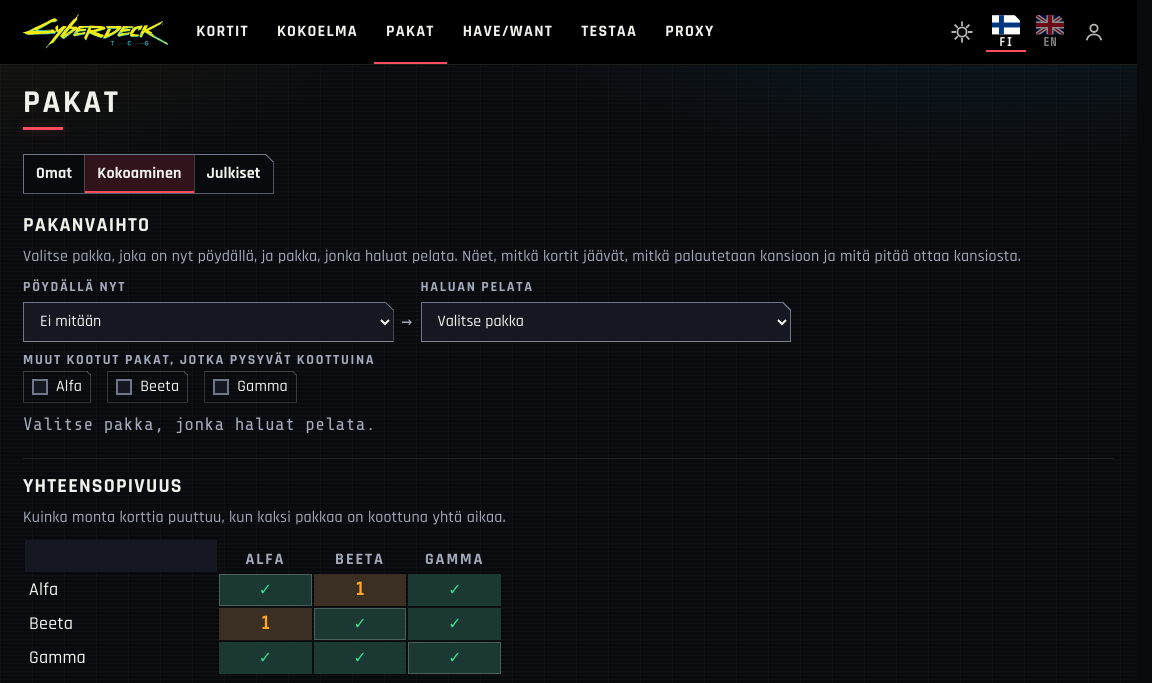
it: Kokoaminen tab (T-164) › reports missing cards, names the kept deck and adds them to wants
Select "Beeta" in the dropdown labelled "Haluan pelata" at coordinates (606, 322), box x1=420 y1=302 x2=791 y2=342
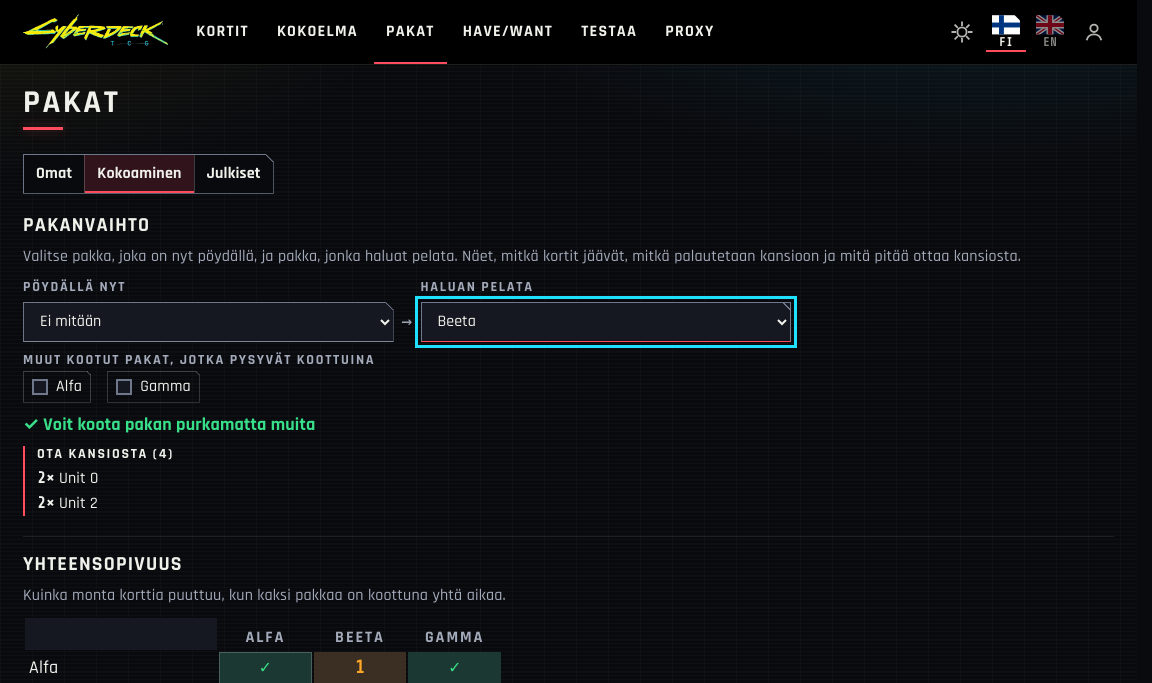
Click the checkbox labelled "Alfa".
click(40, 387)  # box x1=32 y1=379 x2=48 y2=395
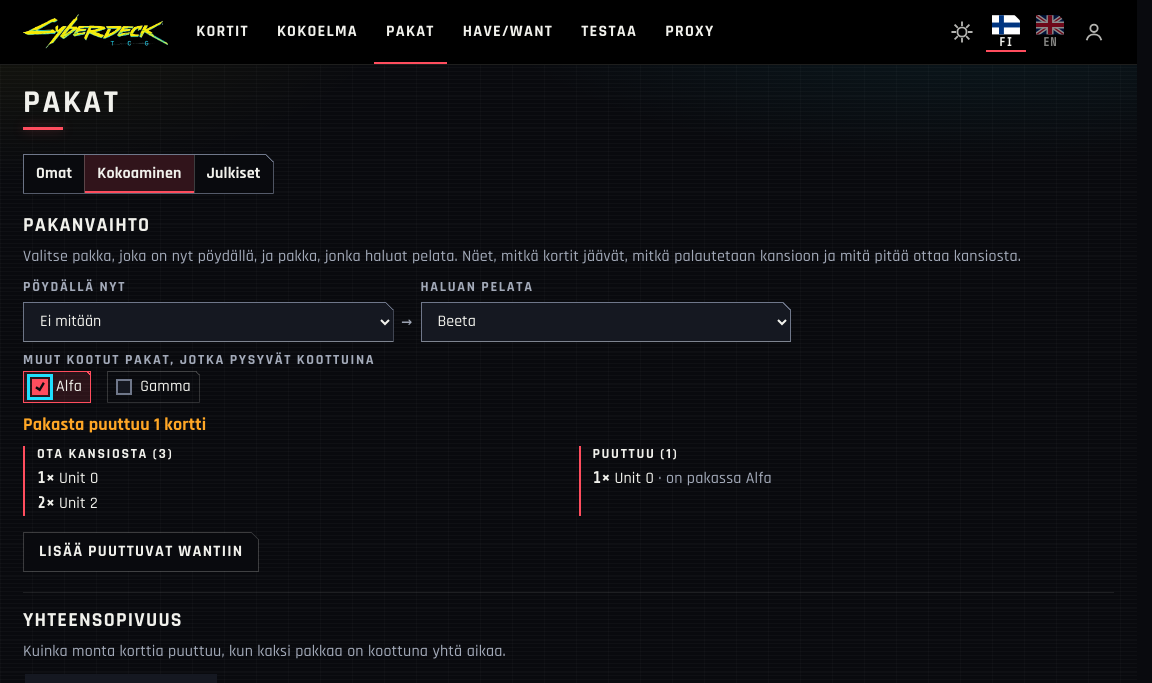
Expected: the heading "Puuttuu (1)" is shown, x1=592 y1=445 x2=678 y2=463
Expected: the text "· on pakassa Alfa" is shown, x1=654 y1=468 x2=772 y2=489
Click the button with aria-label "Lisää puuttuvat wantiin: Beeta".
click(141, 552)  # box x1=23 y1=532 x2=259 y2=572
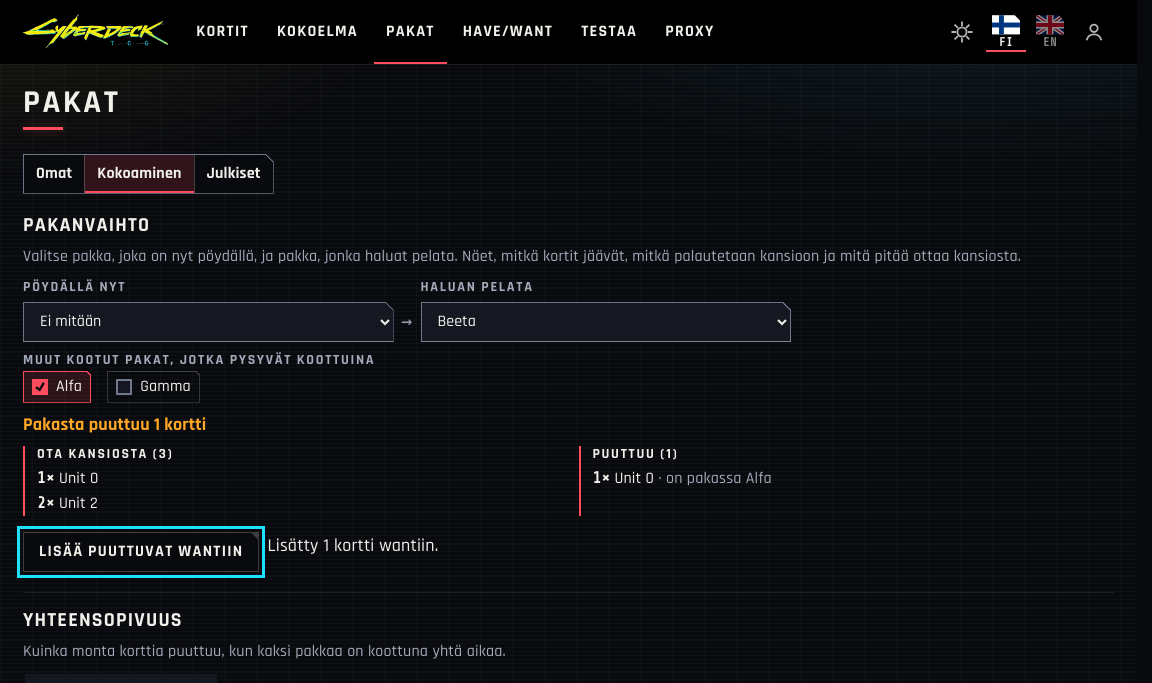
Expected: the text "Lisätty 1 kortti wantiin." is shown, x1=267 y1=534 x2=438 y2=557
